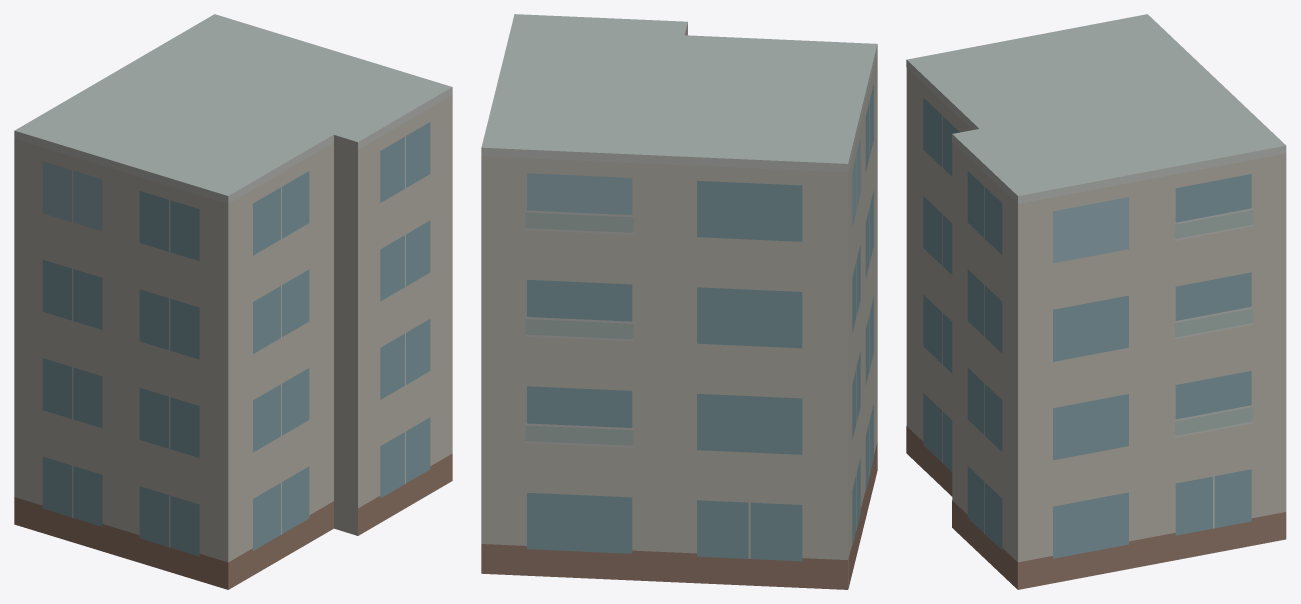
Rendered from residential-33e3ed0c-7a53-4da8-80cf-9afe7501560a.glb.
3 renders of one model, left to right at view 1: azimuth 30°, elevation 25°; view 2: azimuth 150°, elevation 25°; view 3: azimuth 270°, elevation 25°, orthographic. The views are drawn at different scales.
Parts seen in each view (by area): view 1: residential-33e3ed0c-7a53-4da8-80cf-9afe7501560a.tmp; view 2: residential-33e3ed0c-7a53-4da8-80cf-9afe7501560a.tmp; view 3: residential-33e3ed0c-7a53-4da8-80cf-9afe7501560a.tmp.
Boxes of the visible parts, x1,y1,x2,y2 form: residential-33e3ed0c-7a53-4da8-80cf-9afe7501560a.tmp: [14, 14, 452, 589]; residential-33e3ed0c-7a53-4da8-80cf-9afe7501560a.tmp: [481, 14, 877, 589]; residential-33e3ed0c-7a53-4da8-80cf-9afe7501560a.tmp: [906, 14, 1286, 589].
Size of the model in its own units: 12.11 by 12.2 by 10.68.
